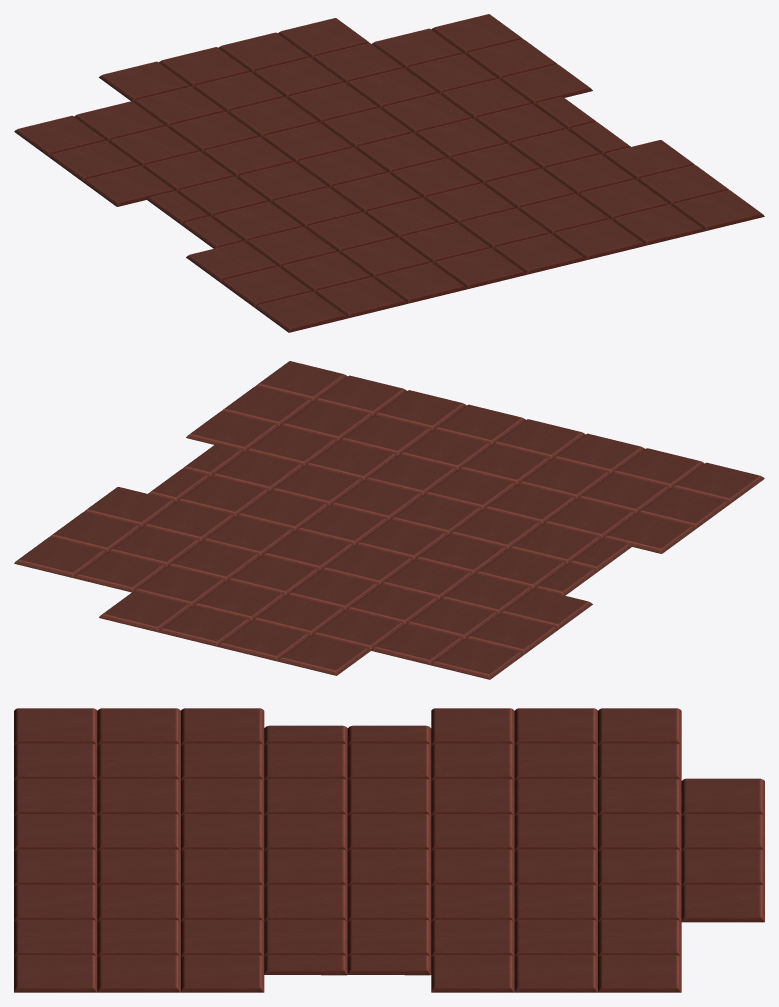
File: Floor.fbx
The picture shows the model from 3 angles, top to bottom: view 1: azimuth 30°, elevation 25°; view 2: azimuth 150°, elevation 25°; view 3: azimuth 270°, elevation 25°; orthographic projection. The views are drawn at different scales.
Parts seen in each view (by area): view 1: Floor116; view 2: Floor116; view 3: Floor116.
Part boxes in pixels (box(x1,y1,x2,y2)): Floor116: box(14, 14, 764, 332); Floor116: box(14, 361, 764, 679); Floor116: box(14, 708, 764, 992).
Size of the model in its own units: 8 by 0.0554 by 9.
Materials: 1 (1 with a texture image).
